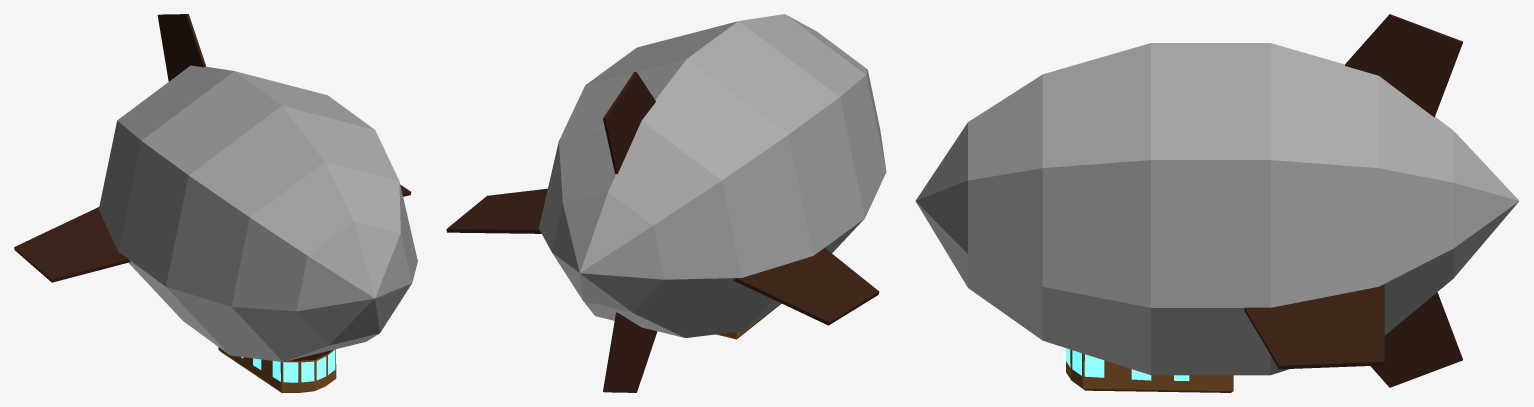
File: zeppelin.gltf
3 views of the same model, side by side, from view 1: azimuth 30°, elevation 25°; view 2: azimuth 150°, elevation 25°; view 3: azimuth 270°, elevation 25° (orthographic). The views are drawn at different scales.
Visible parts, largest first — view 1: Balloon; view 2: Balloon; view 3: Balloon.
Boxes of the visible parts, x1,y1,x2,y2 form: Balloon: [14, 14, 417, 392]; Balloon: [446, 14, 886, 392]; Balloon: [915, 14, 1518, 392].
Size of the model in its own units: 29.44 by 23 by 33.8.
